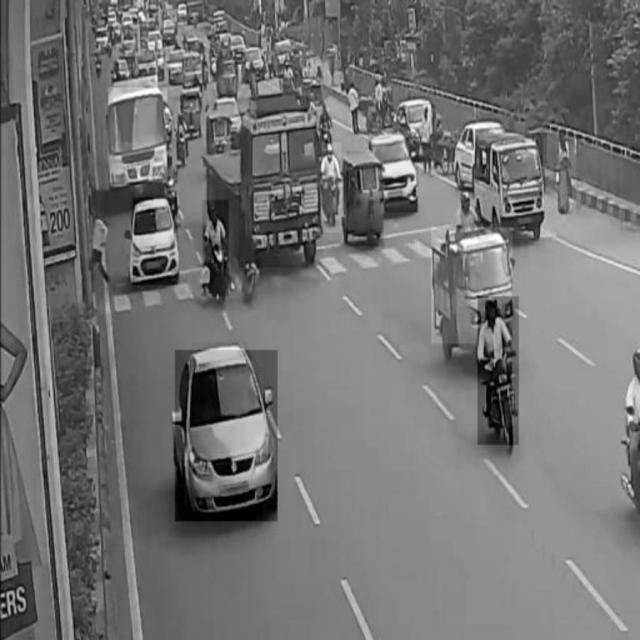person: (556, 142, 576, 215)
vehicle: (175, 351, 278, 521), (240, 109, 323, 267), (432, 228, 513, 344), (475, 137, 542, 228), (478, 296, 519, 444), (107, 88, 168, 182), (133, 197, 178, 285), (367, 138, 419, 212), (347, 151, 384, 245), (203, 200, 229, 296), (322, 143, 342, 233)
